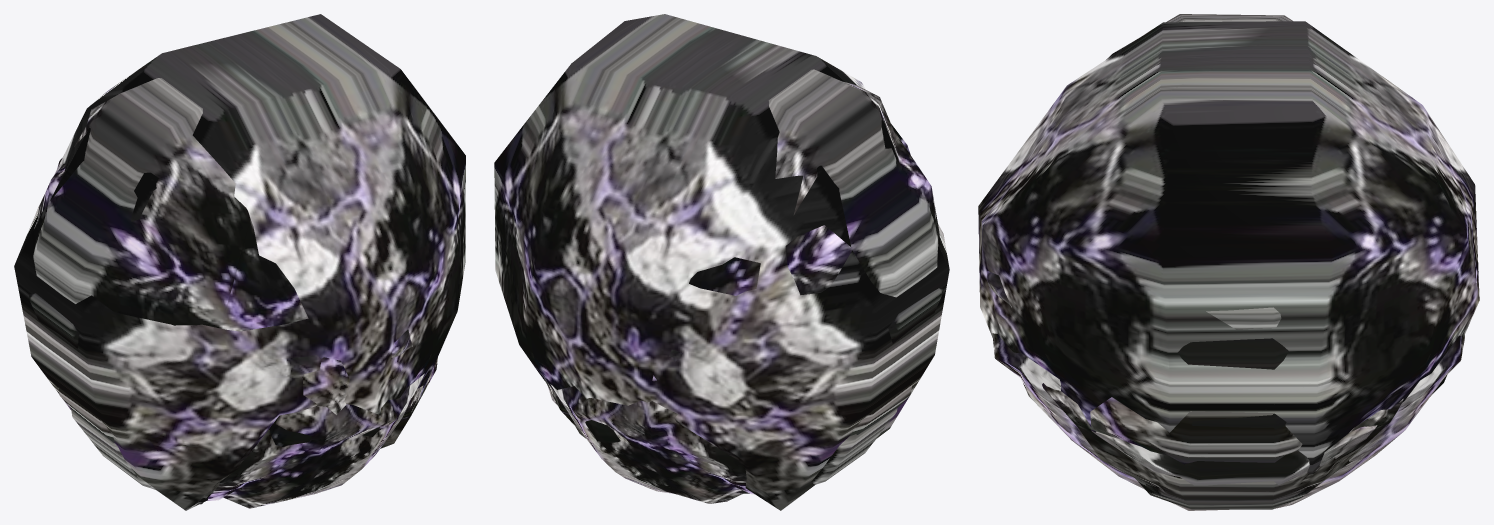
File: sd_ast_titan.glb
3 views of the same model, side by side, from view 1: azimuth 30°, elevation 25°; view 2: azimuth 150°, elevation 25°; view 3: azimuth 270°, elevation 25° (orthographic). The views are drawn at different scales.
Visible parts, largest first — view 1: PICK_titan, AST_titan_2, AST_titan_3, AST_titan_1; view 2: PICK_titan, AST_titan_2, AST_titan_3, AST_titan_1; view 3: PICK_titan, AST_titan_2, AST_titan_3, AST_titan_1.
Boxes of the visible parts, x1,y1,x2,y2 form: PICK_titan: [14, 14, 465, 510]; AST_titan_2: [33, 78, 437, 489]; AST_titan_3: [71, 373, 424, 508]; AST_titan_1: [28, 293, 407, 504]; PICK_titan: [494, 14, 949, 510]; AST_titan_2: [544, 69, 940, 438]; AST_titan_3: [548, 384, 897, 503]; AST_titan_1: [668, 288, 943, 441]; PICK_titan: [978, 21, 1479, 475]; AST_titan_2: [987, 14, 1403, 509]; AST_titan_3: [992, 333, 1464, 510]; AST_titan_1: [992, 295, 1281, 329].
Size of the model in its own units: 1.01 by 1.04 by 1.07.
1 material, 1 textured.
